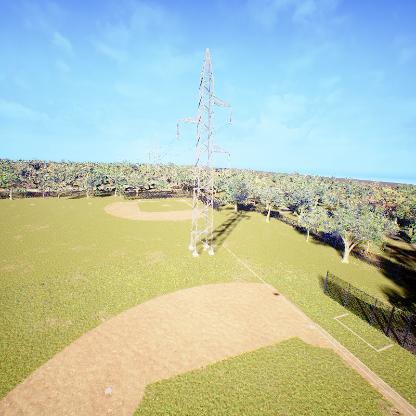tower: (174, 48, 236, 259)
